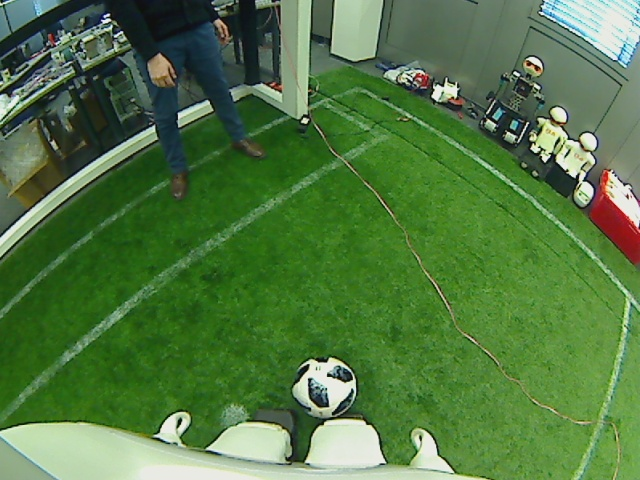ball: (288, 355, 360, 419)
